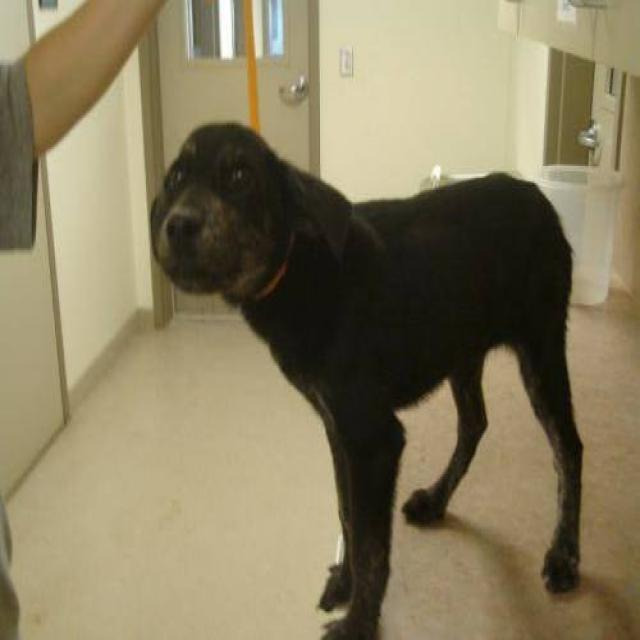dogs: (152, 90, 609, 640)
